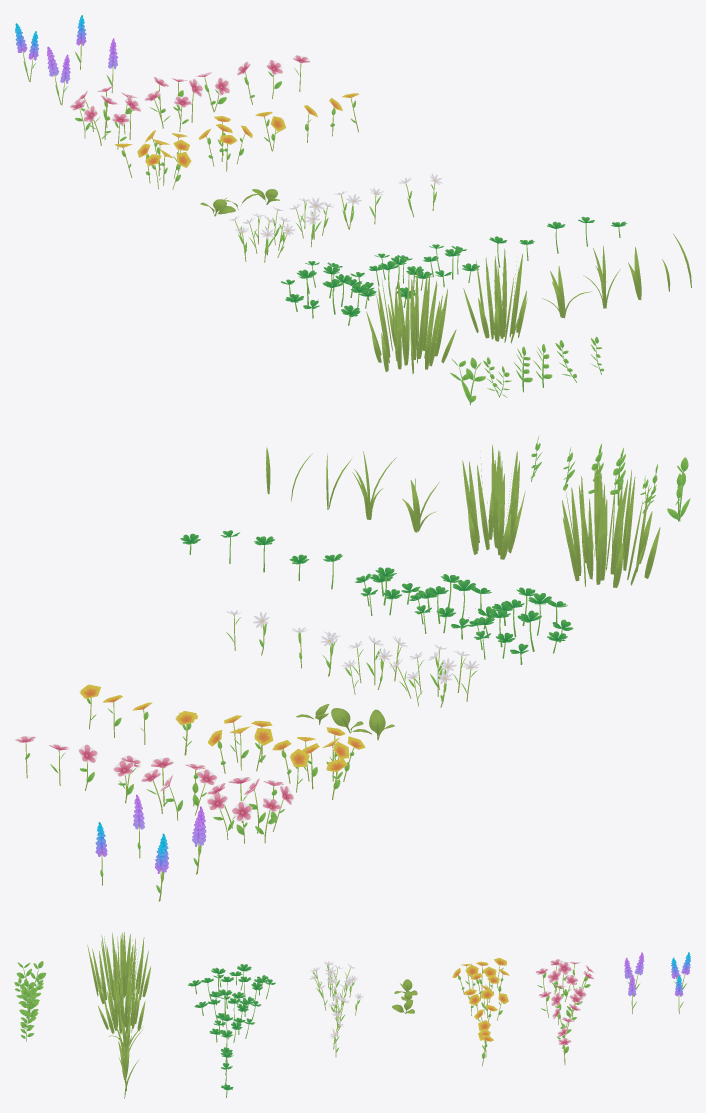
Rendered from Plants_Group.fbx.
3 renders of one model, top to bottom at view 1: azimuth 30°, elevation 25°; view 2: azimuth 150°, elevation 25°; view 3: azimuth 270°, elevation 25°, orthographic. The views are drawn at different scales.
Parts seen in each view (by area): view 1: Big_Grass0, Big_Grass1, Clover_Group3, Flower_A_Group3, Flower_C_Group3, Clover_Group2, Flower_B_Group3, Flower_A_Group2, Flower_C_Group2, Flower_B_Group2, Clover_Group1; view 2: Big_Grass0, Big_Grass1, Clover_Group3, Flower_A_Group3, Flower_C_Group3, Clover_Group2, Flower_B_Group3, Flower_A_Group2, Flower_C_Group2, Clover_Group1, Flower_B_Group2; view 3: Big_Grass0, Big_Grass1, Clover_Group3, Flower_A_Group3, Flower_C_Group3, Clover_Group2, Flower_B_Group3, Flower_A_Group2, Flower_C_Group2, Clover_Group1, Flower_B_Group2, Flower_D2 (+2 smaller).
Part boxes in pixels (x1,y1,x2,y2): Big_Grass0: (366, 267, 456, 374); Big_Grass1: (463, 248, 527, 343); Clover_Group3: (281, 261, 376, 325); Flower_A_Group3: (69, 86, 140, 149); Flower_C_Group3: (114, 130, 191, 189); Clover_Group2: (350, 253, 431, 307); Flower_B_Group3: (229, 206, 295, 262); Flower_A_Group2: (144, 77, 202, 131); Flower_C_Group2: (198, 116, 252, 171); Flower_B_Group2: (289, 197, 334, 247); Clover_Group1: (423, 244, 479, 287); Big_Grass0: (562, 462, 660, 587); Big_Grass1: (462, 444, 525, 559); Clover_Group3: (468, 587, 573, 664); Flower_A_Group3: (206, 777, 294, 843); Flower_C_Group3: (272, 727, 365, 799); Clover_Group2: (409, 574, 495, 639); Flower_B_Group3: (389, 644, 479, 707); Flower_A_Group2: (141, 757, 217, 820); Flower_C_Group2: (207, 715, 273, 773); Clover_Group1: (355, 567, 420, 615); Flower_B_Group2: (342, 636, 407, 694); Big_Grass0: (87, 932, 150, 1003); Big_Grass1: (98, 966, 145, 1034); Clover_Group3: (188, 964, 275, 1005); Flower_A_Group3: (535, 959, 594, 1001); Flower_C_Group3: (452, 957, 509, 1002); Clover_Group2: (194, 989, 261, 1026); Flower_B_Group3: (309, 961, 357, 1001); Flower_A_Group2: (539, 984, 586, 1024); Flower_C_Group2: (463, 984, 508, 1021); Clover_Group1: (209, 1016, 254, 1042); Flower_B_Group2: (316, 984, 363, 1017); Flower_D2: (624, 952, 644, 996).
Size of the model in its own units: 896 by 240 by 2116.
